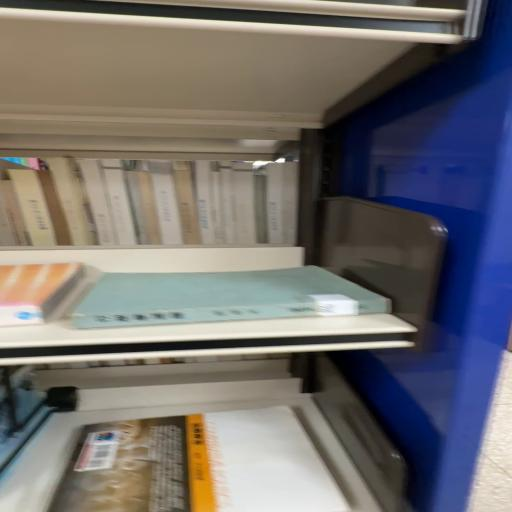flat: (48, 407, 350, 512), (71, 267, 392, 330)
